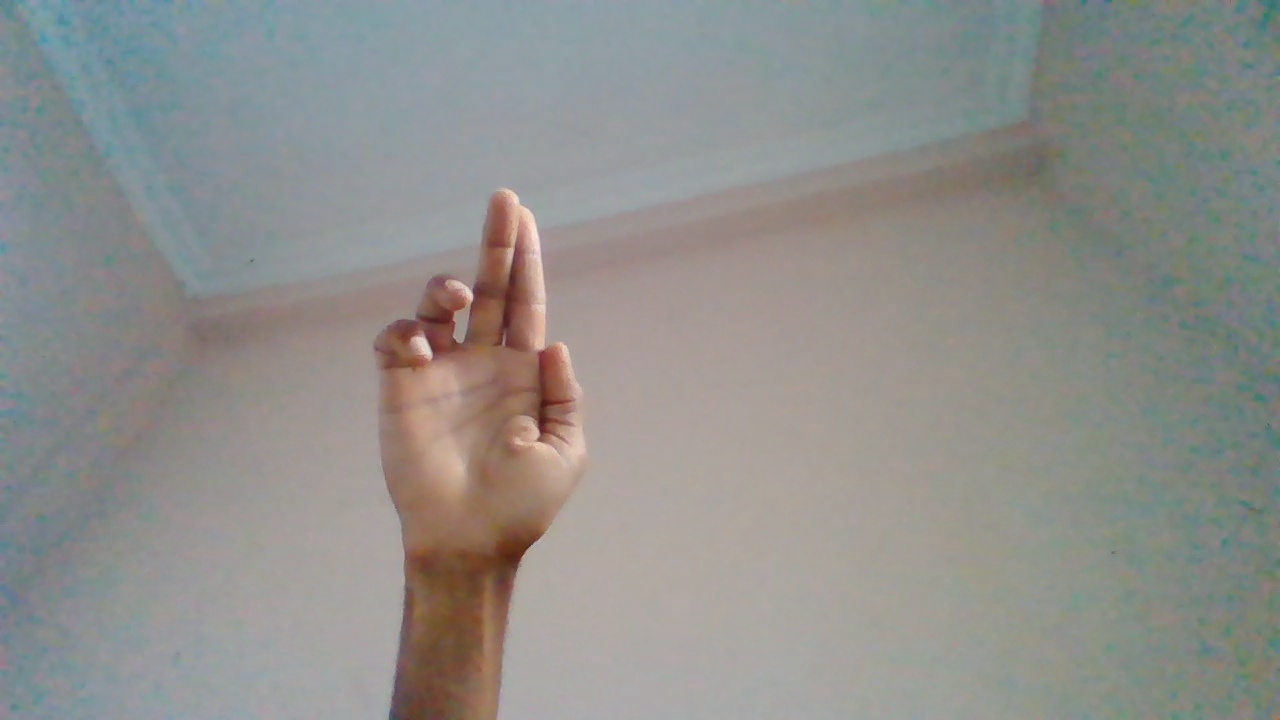gne: (373, 181, 590, 675)
